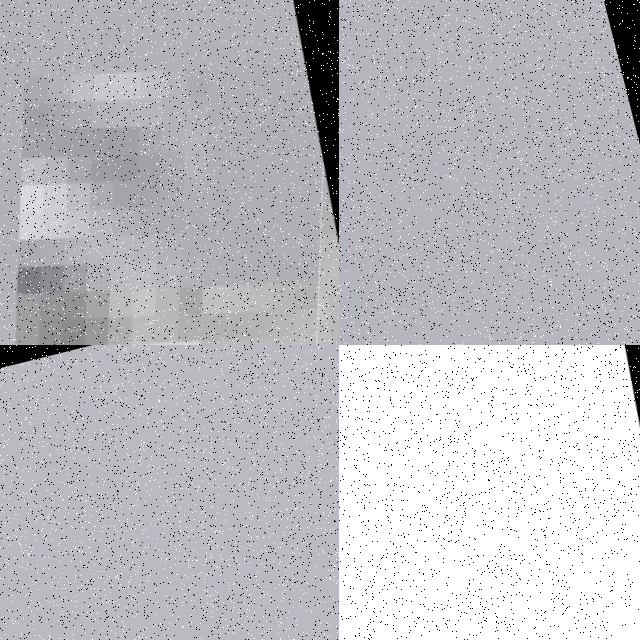0: (0, 0, 339, 345)
drone: (339, 345, 640, 640)
